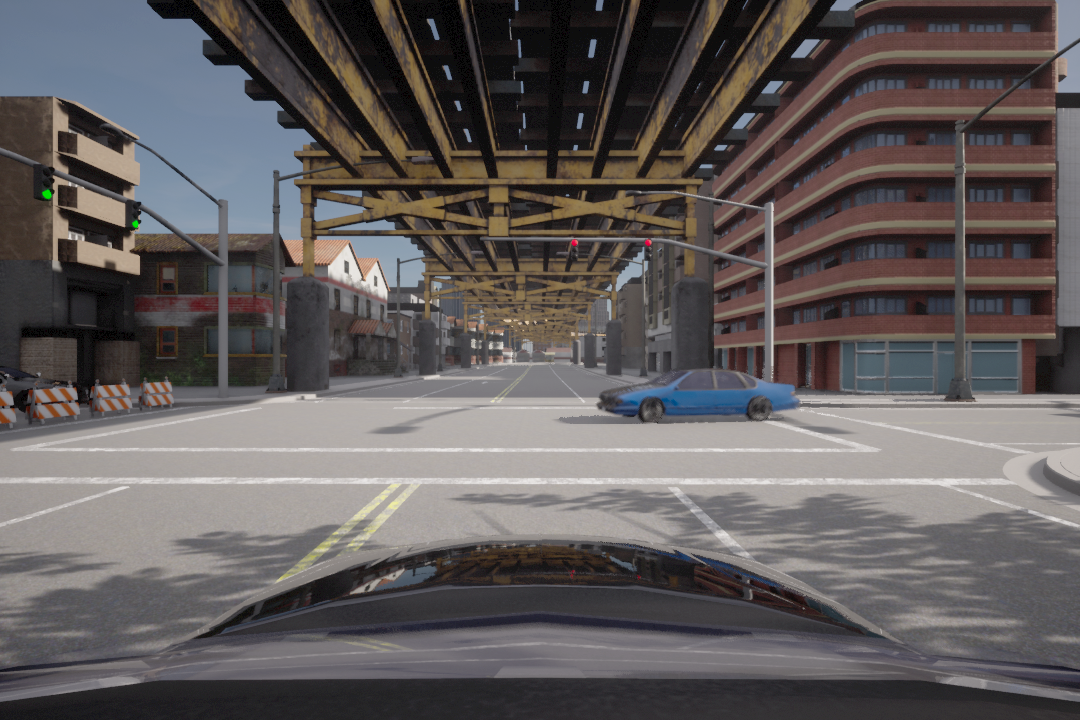TrafficLight: (124, 195, 147, 239), (34, 163, 58, 200), (642, 237, 655, 264), (566, 236, 579, 262)
